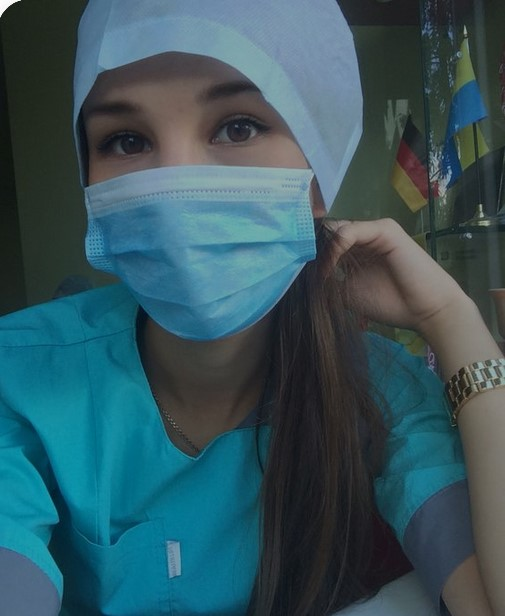face_with_mask: (65, 7, 372, 346)
